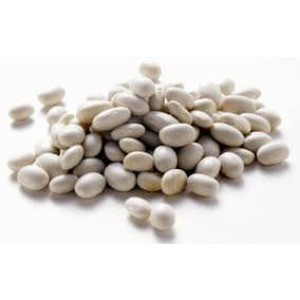beans_brain food: (75, 99, 241, 182)
